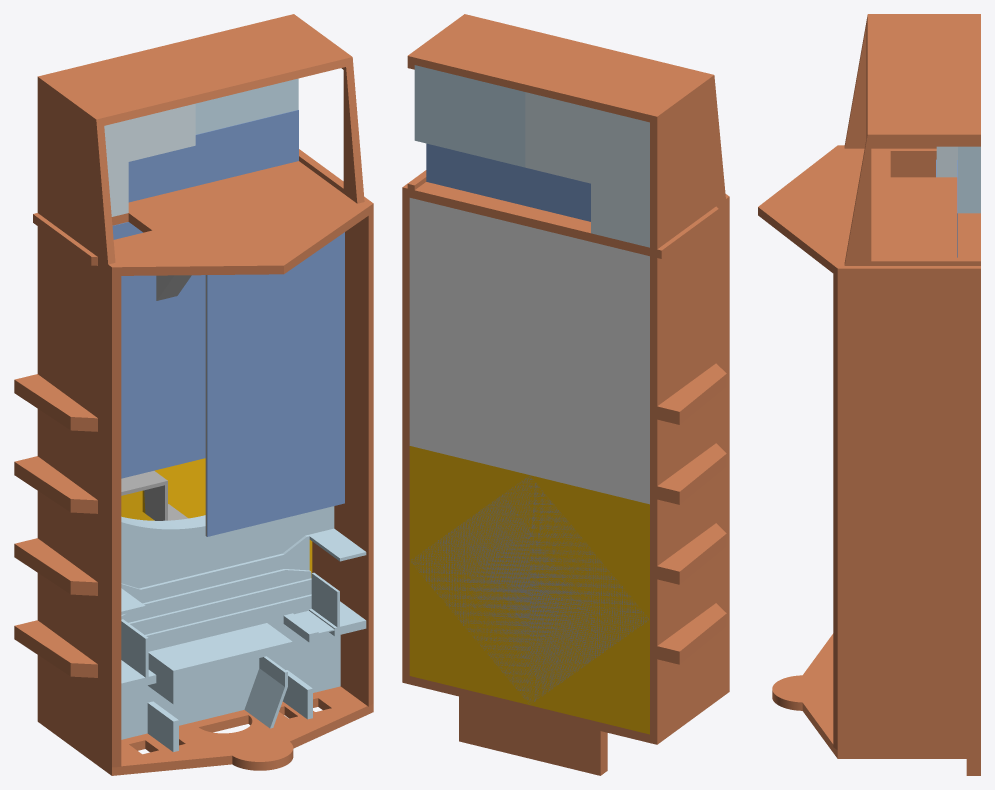
File: picturehouse.glb
3 views of the same model, side by side, from view 1: azimuth 30°, elevation 25°; view 2: azimuth 150°, elevation 25°; view 3: azimuth 270°, elevation 25° (orthographic). The views are drawn at different scales.
Visible parts, largest first — view 1: mesh115_meshnode_115, mesh342_meshnode_342, mesh101_meshnode_101, mesh334_meshnode_334, mesh114_meshnode_114, mesh113_meshnode_113, mesh23_meshnode_23, mesh91_meshnode_91, mesh348_meshnode_348, mesh95_meshnode_95, mesh135_meshnode_135, mesh206_meshnode_206 (+30 smaller); view 2: mesh202_meshnode_202, mesh218_meshnode_218, mesh115_meshnode_115, mesh119_meshnode_119, mesh256_meshnode_256, mesh114_meshnode_114, mesh210_meshnode_210, mesh199_meshnode_199, mesh349_meshnode_349, mesh101_meshnode_101, mesh105_meshnode_105, mesh107_meshnode_107 (+6 smaller); view 3: mesh118_meshnode_118, mesh101_meshnode_101, mesh114_meshnode_114, mesh97_meshnode_97, mesh125_meshnode_125, mesh95_meshnode_95, mesh116_meshnode_116, mesh196_meshnode_196, mesh102_meshnode_102, mesh124_meshnode_124, mesh142_meshnode_142, mesh137_meshnode_137.
Boxes of the visible parts, x1,y1,x2,y2 form: mesh115_meshnode_115: [37, 77, 111, 775]; mesh342_meshnode_342: [207, 232, 344, 536]; mesh101_meshnode_101: [108, 151, 373, 267]; mesh334_meshnode_334: [112, 222, 205, 478]; mesh114_meshnode_114: [38, 14, 351, 119]; mesh113_meshnode_113: [312, 216, 368, 706]; mesh23_meshnode_23: [121, 596, 340, 739]; mesh91_meshnode_91: [121, 506, 334, 588]; mesh348_meshnode_348: [128, 110, 298, 202]; mesh95_meshnode_95: [121, 686, 366, 766]; mesh135_meshnode_135: [112, 265, 283, 767]; mesh206_meshnode_206: [104, 103, 195, 216]; mesh202_meshnode_202: [409, 198, 649, 504]; mesh218_meshnode_218: [409, 446, 649, 734]; mesh115_meshnode_115: [657, 75, 729, 744]; mesh119_meshnode_119: [402, 56, 679, 775]; mesh256_meshnode_256: [411, 476, 648, 703]; mesh114_meshnode_114: [408, 14, 713, 116]; mesh210_meshnode_210: [525, 92, 649, 247]; mesh199_meshnode_199: [414, 65, 525, 167]; mesh349_meshnode_349: [426, 143, 590, 221]; mesh101_meshnode_101: [403, 171, 729, 233]; mesh105_meshnode_105: [657, 363, 726, 411]; mesh107_meshnode_107: [657, 443, 726, 491]; mesh118_meshnode_118: [837, 268, 980, 758]; mesh101_meshnode_101: [758, 145, 980, 268]; mesh114_meshnode_114: [867, 14, 980, 134]; mesh97_meshnode_97: [844, 134, 980, 265]; mesh125_meshnode_125: [758, 207, 837, 749]; mesh95_meshnode_95: [772, 633, 833, 743]; mesh116_meshnode_116: [845, 26, 936, 148]; mesh196_meshnode_196: [958, 146, 980, 213]; mesh102_meshnode_102: [890, 159, 935, 177]; mesh124_meshnode_124: [844, 15, 867, 264]; mesh142_meshnode_142: [871, 257, 980, 261]; mesh137_meshnode_137: [890, 151, 936, 159].
Size of the model in its own units: 13.44 by 31.16 by 9.45.
